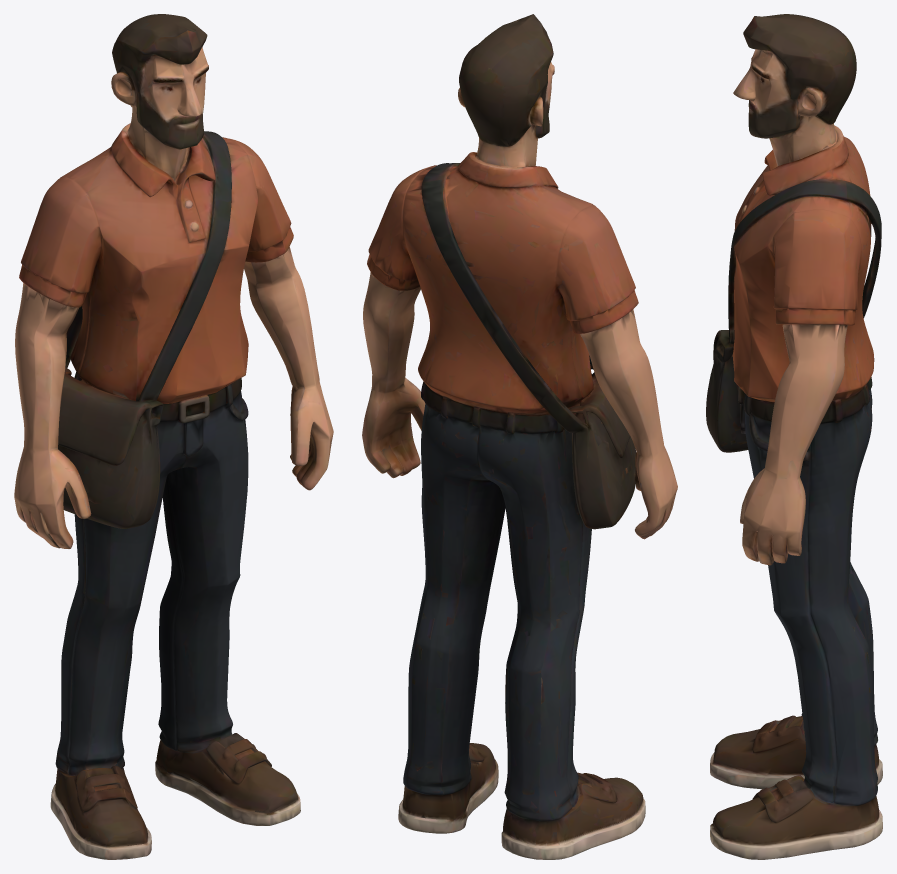
File: 30to50_Male.glb
The picture shows the model from 3 angles, left to right: view 1: azimuth 30°, elevation 25°; view 2: azimuth 150°, elevation 25°; view 3: azimuth 270°, elevation 25°; orthographic projection.
Parts seen in each view (by area): view 1: node_0; view 2: node_0; view 3: node_0.
Boxes of the visible parts, box(x1,y1,x2,y2) form: node_0: box(14, 14, 333, 859); node_0: box(362, 14, 677, 859); node_0: box(706, 14, 882, 859).
Size of the model in its own units: 0.461 by 1.15 by 0.2332.
1 material, 1 textured.
